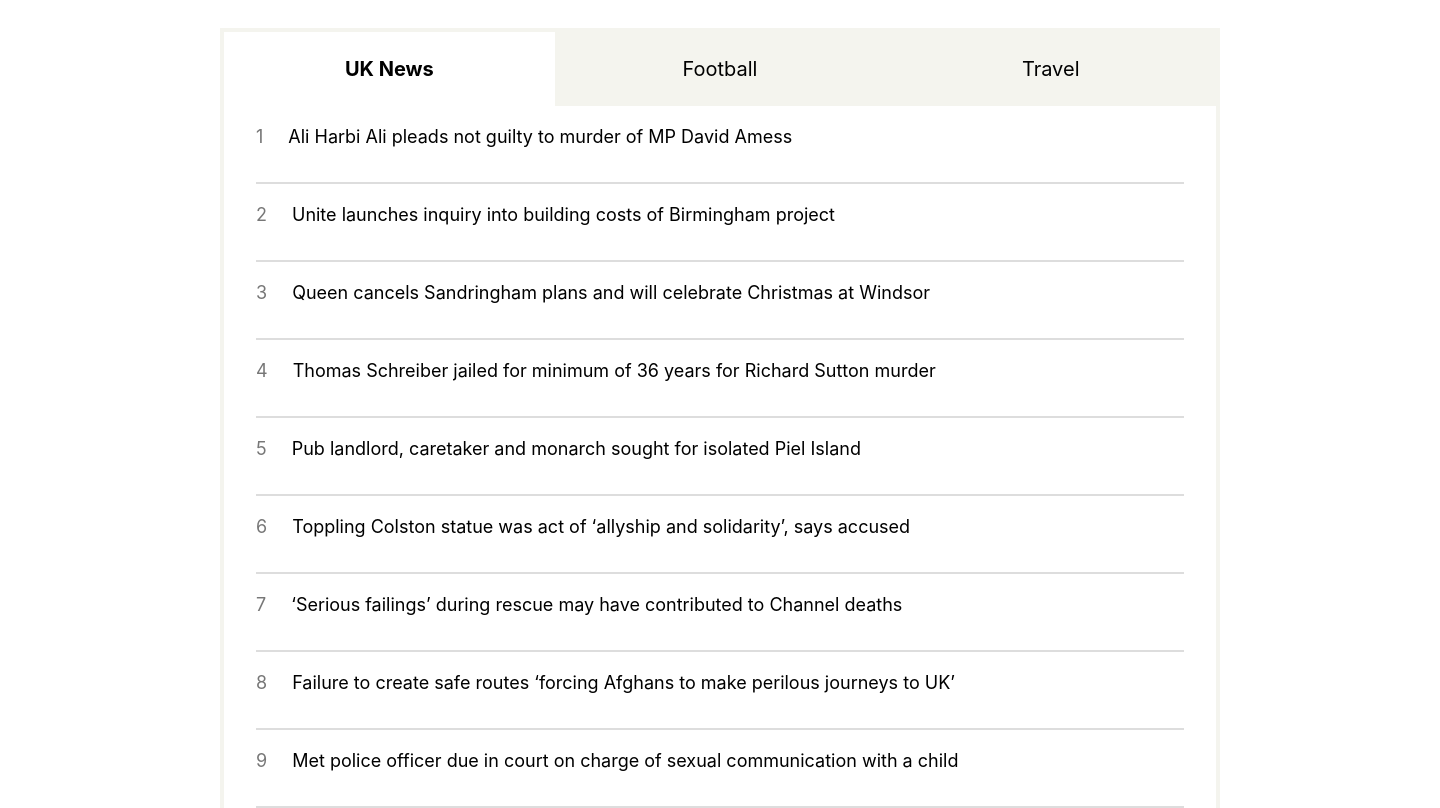
Scenario: NewsTabs › Travel news are shown correctly
The image size is (1440, 808).
What coordinates should you click on to do the following:
click the text "Travel"
I would click on:
 (1051, 69)
Its box is [1022,57,1080,81].
(page scrolled)
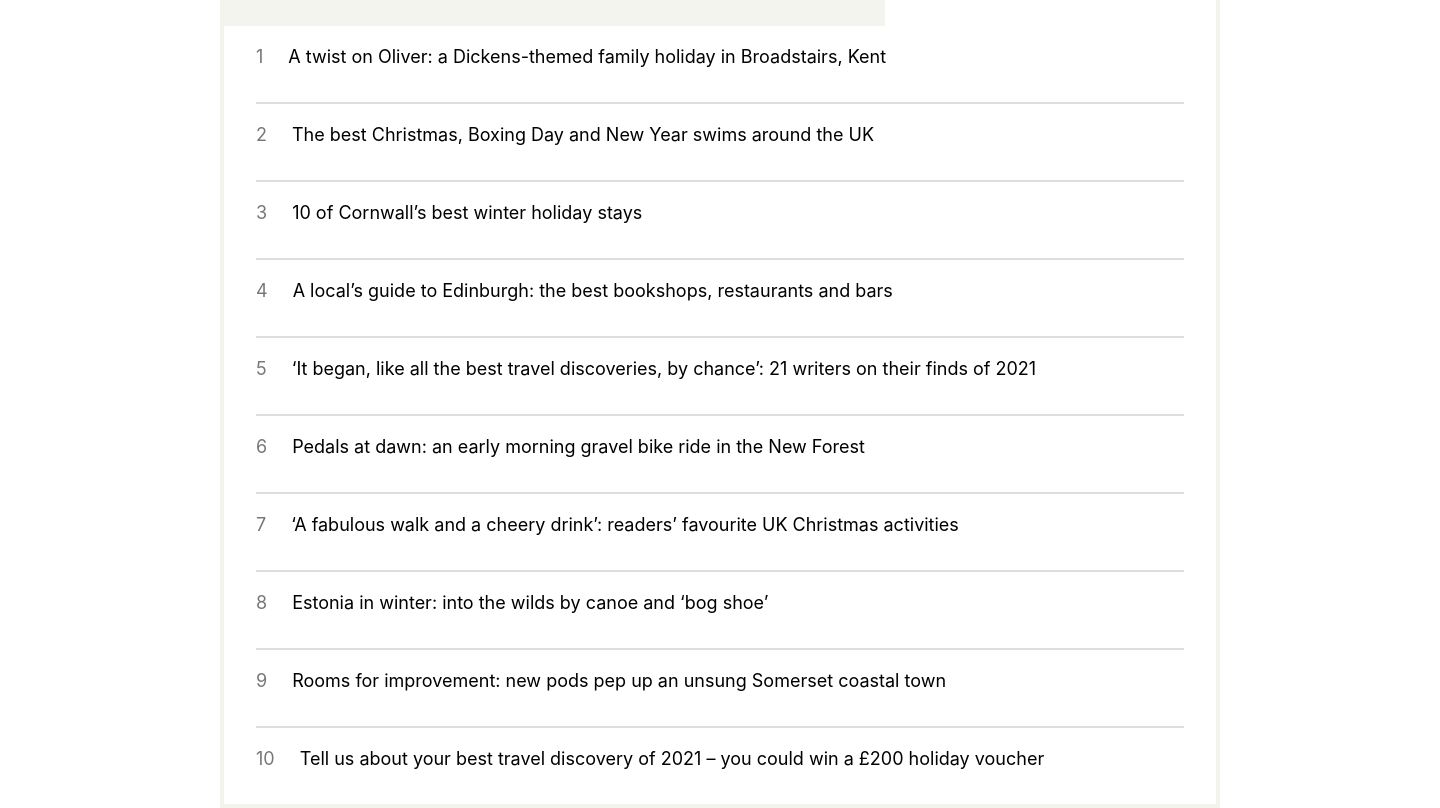
Result: the link "A twist on Oliver: a Dickens-themed family holiday in Broadstairs, Kent" is shown at [288,46,886,67]
Result: the link "The best Christmas, Boxing Day and New Year swims around the UK" is shown at [292,124,874,145]
Result: the link "10 of Cornwall’s best winter holiday stays" is shown at [292,202,642,223]
